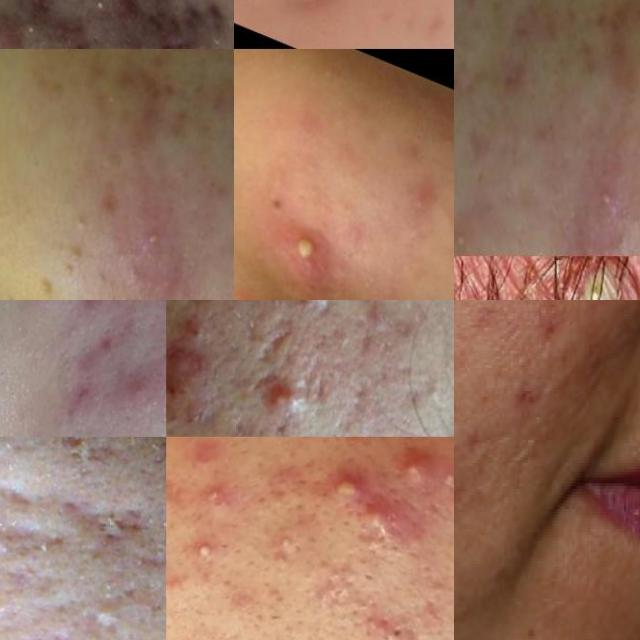acne_scars: (123, 57, 178, 145), (593, 0, 640, 87), (74, 487, 146, 543), (499, 0, 567, 56), (0, 503, 64, 562), (126, 528, 166, 582), (9, 609, 76, 640), (201, 68, 234, 129)
comedone: (295, 560, 362, 608), (347, 596, 417, 640), (78, 583, 130, 632), (192, 471, 240, 520), (50, 236, 96, 286), (255, 152, 298, 200), (308, 49, 350, 97), (65, 191, 107, 235), (266, 132, 298, 168), (28, 272, 69, 300), (454, 214, 475, 256), (234, 161, 245, 205)
cystic: (346, 491, 410, 552)
folliculitis: (535, 256, 640, 300)
papule: (389, 163, 454, 242), (100, 347, 166, 412), (166, 335, 211, 384), (277, 300, 348, 331), (149, 259, 193, 300), (166, 376, 200, 424), (563, 221, 605, 256), (590, 173, 619, 220), (138, 217, 170, 258)
pustule: (268, 203, 352, 294), (307, 449, 363, 513), (252, 371, 308, 426), (182, 529, 225, 574), (259, 520, 298, 562), (397, 441, 433, 486), (432, 459, 454, 499), (444, 485, 454, 522)
sebo-crystan-conglo: (47, 0, 233, 48), (0, 0, 95, 48)
